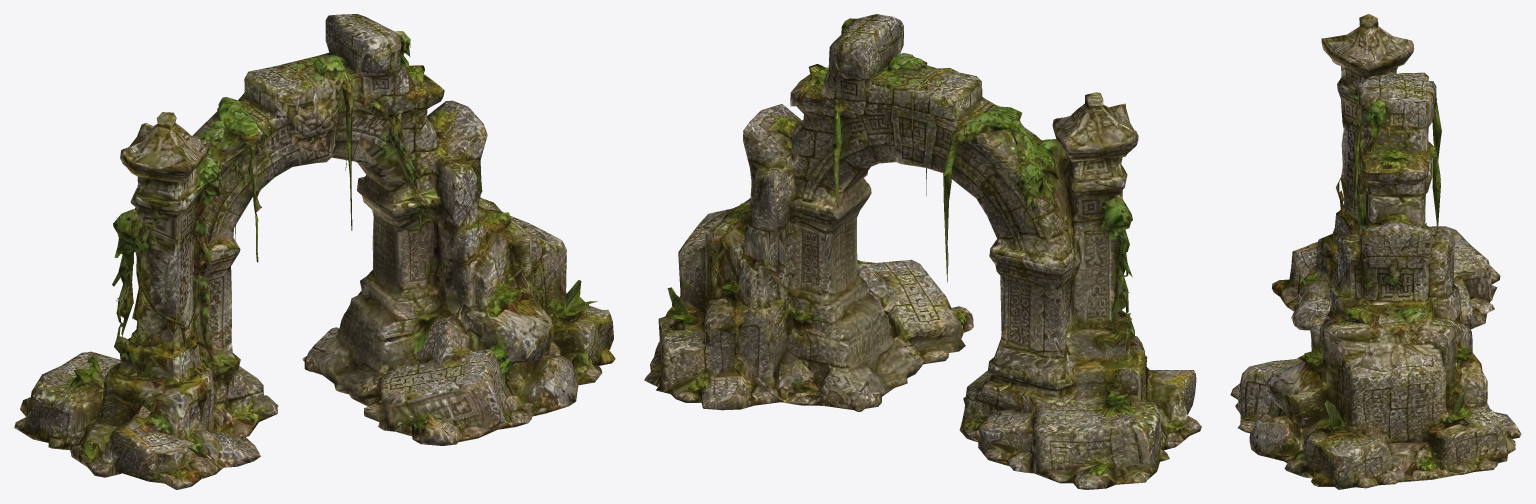
Rendered from ruina_arco.glb.
3 views of the same model, side by side, from view 1: azimuth 30°, elevation 25°; view 2: azimuth 150°, elevation 25°; view 3: azimuth 270°, elevation 25° (orthographic). The views are drawn at different scales.
Visible parts, largest first — view 1: ruina_arco; view 2: ruina_arco; view 3: ruina_arco.
Boxes of the visible parts, box(x1,y1,x2,y2) form: ruina_arco: box(14, 14, 615, 489); ruina_arco: box(644, 14, 1201, 489); ruina_arco: box(1230, 14, 1521, 489).
Bounding box in the file's own units: 7 × 4.5 × 3.75.
1 material, 1 textured.
